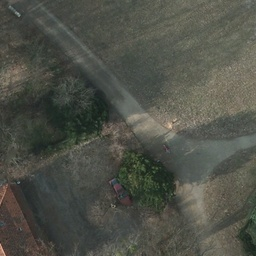car: (104, 174, 134, 208)
